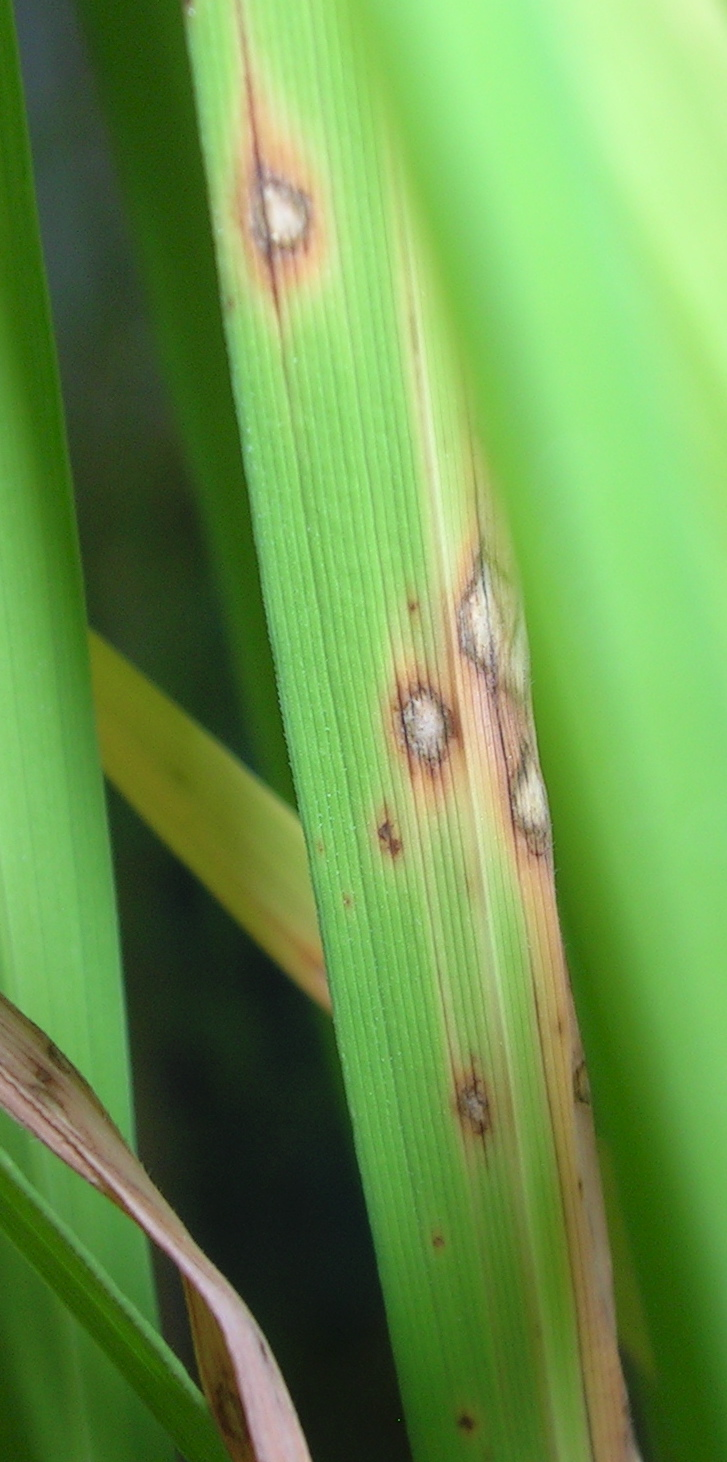Bercak Coklat: (348, 799, 432, 884)
Busuk Leher: (219, 144, 334, 326), (456, 537, 543, 715), (385, 655, 461, 802), (434, 1057, 519, 1166), (494, 739, 561, 873)
